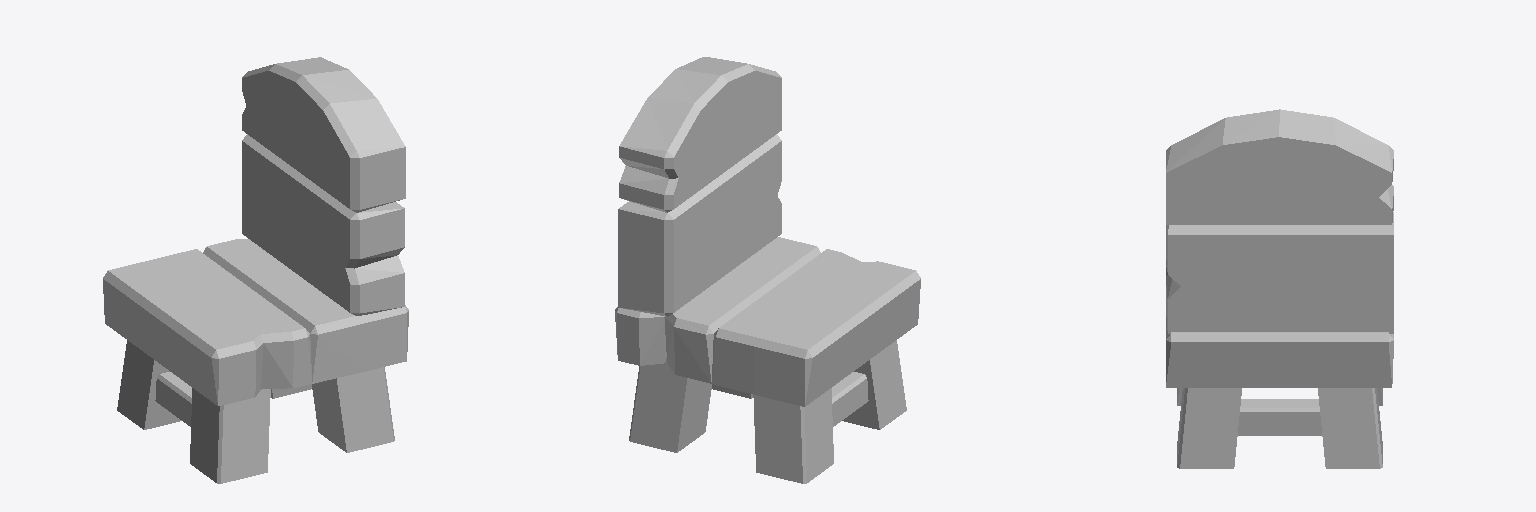
File: chair.obj
3 views of the same model, side by side, from view 1: azimuth 30°, elevation 25°; view 2: azimuth 150°, elevation 25°; view 3: azimuth 270°, elevation 25° (orthographic).
Parts seen in each view (by area): view 1: chair_Cube.14234; view 2: chair_Cube.14234; view 3: chair_Cube.14234.
Boxes of the visible parts, x1=… form: chair_Cube.14234: x1=103, y1=57, x2=408, y2=483; chair_Cube.14234: x1=615, y1=57, x2=920, y2=483; chair_Cube.14234: x1=1166, y1=109, x2=1393, y2=468.
Bounding box in the file's own units: 0.75 × 1.23 × 0.75.